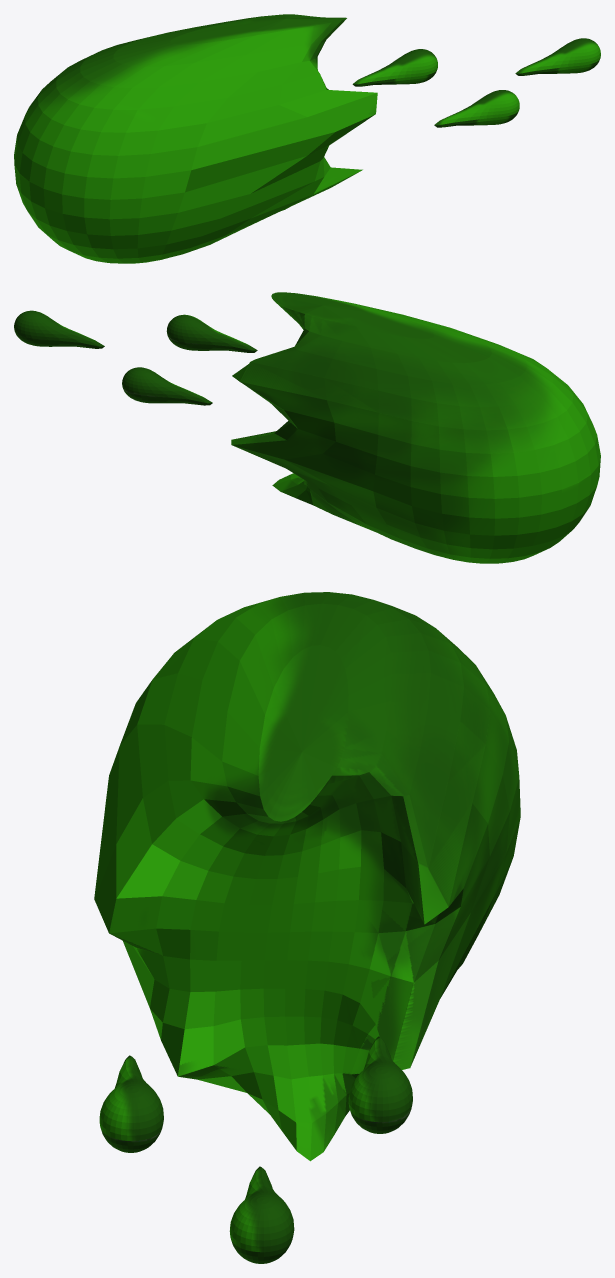
Rendered from PociskSlime.fbx.
3 views of the same model, one above another, from view 1: azimuth 30°, elevation 25°; view 2: azimuth 150°, elevation 25°; view 3: azimuth 270°, elevation 25° (orthographic). The views are drawn at different scales.
Parts seen in each view (by area): view 1: Pocisk, Kropla#2, Kropla#3, Kropla#1; view 2: Pocisk, Kropla#3, Kropla#1, Kropla#2; view 3: Pocisk, Kropla#3, Kropla#1, Kropla#2.
Part boxes in pixels (<box>): Pocisk: <box>14,14,377,263</box>; Kropla#2: <box>434,90,519,127</box>; Kropla#3: <box>352,49,437,86</box>; Kropla#1: <box>515,38,600,75</box>; Pocisk: <box>231,292,600,563</box>; Kropla#3: <box>122,367,212,405</box>; Kropla#1: <box>14,310,104,348</box>; Kropla#2: <box>166,314,257,352</box>; Pocisk: <box>94,592,520,1161</box>; Kropla#3: <box>348,1036,412,1133</box>; Kropla#1: <box>229,1166,294,1263</box>; Kropla#2: <box>99,1055,163,1152</box>.
Size of the model in its own units: 573 by 194 by 189.
